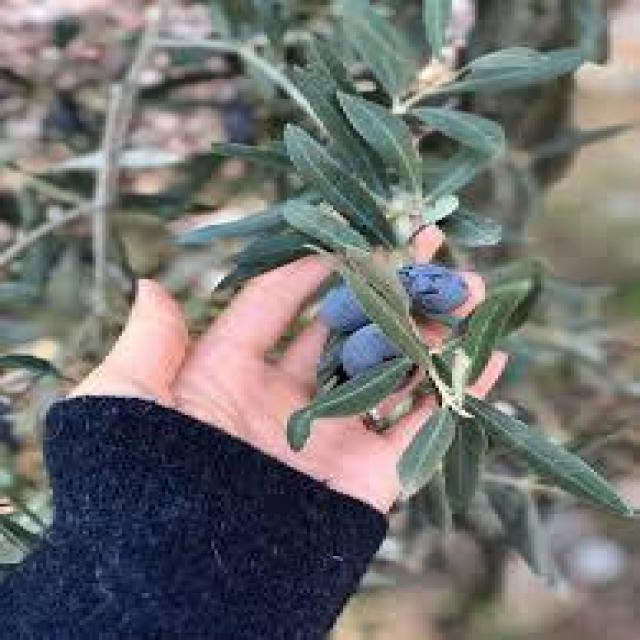Healthy: (399, 262, 465, 315)
